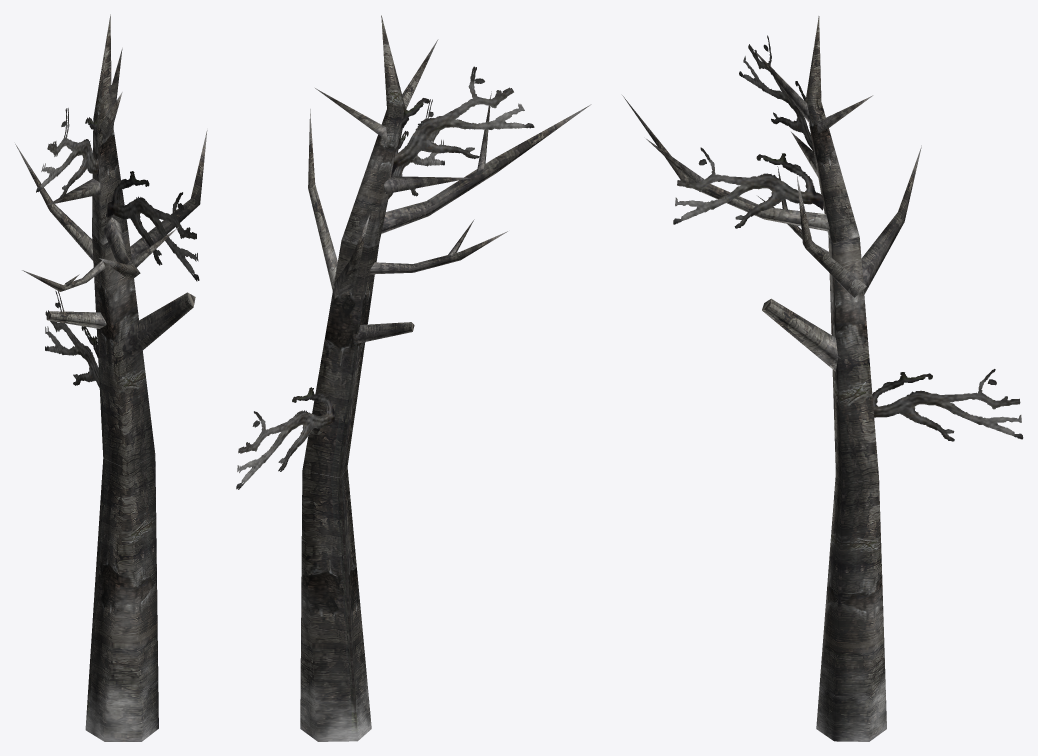
Rendered from Snow_Tree07.FBX.
3 views of the same model, side by side, from view 1: azimuth 30°, elevation 25°; view 2: azimuth 150°, elevation 25°; view 3: azimuth 270°, elevation 25° (orthographic). The views are drawn at different scales.
Parts seen in each view (by area): view 1: Snow_Tree07; view 2: Snow_Tree07; view 3: Snow_Tree07.
Boxes of the visible parts, box(x1,y1,x2,y2) form: Snow_Tree07: box(15, 14, 207, 741); Snow_Tree07: box(236, 15, 591, 741); Snow_Tree07: box(622, 16, 1023, 741).
Size of the model in its own units: 353 by 1214 by 631.
